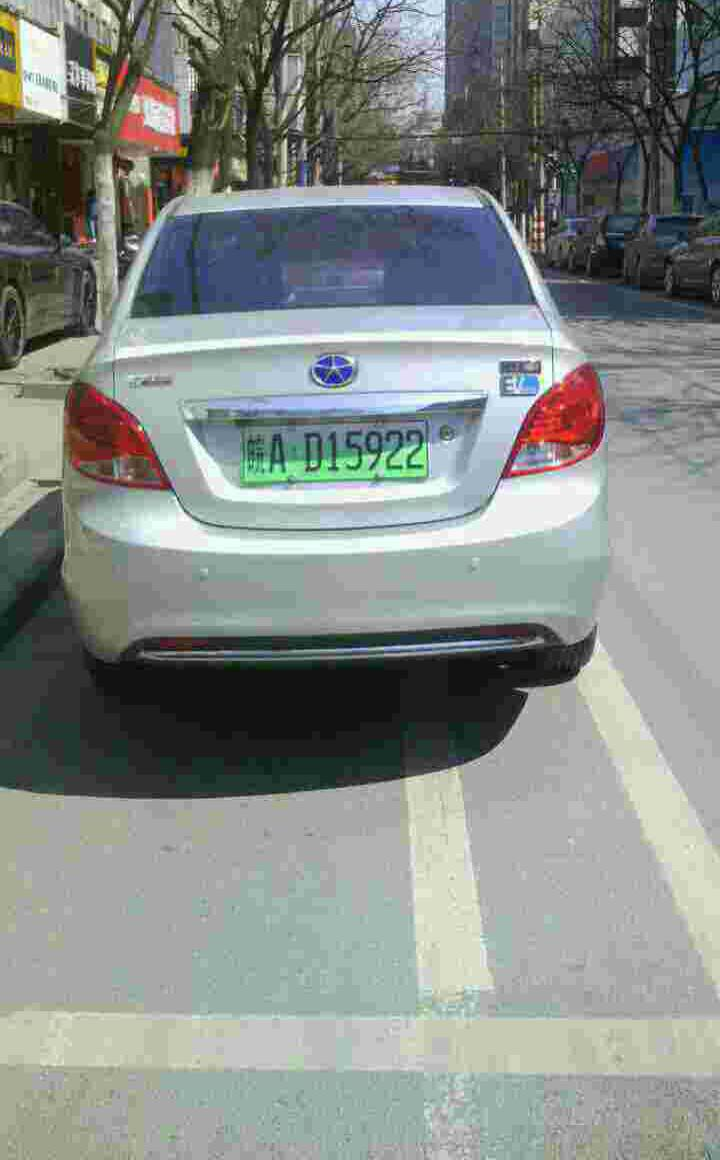car: (236, 426, 438, 479)
